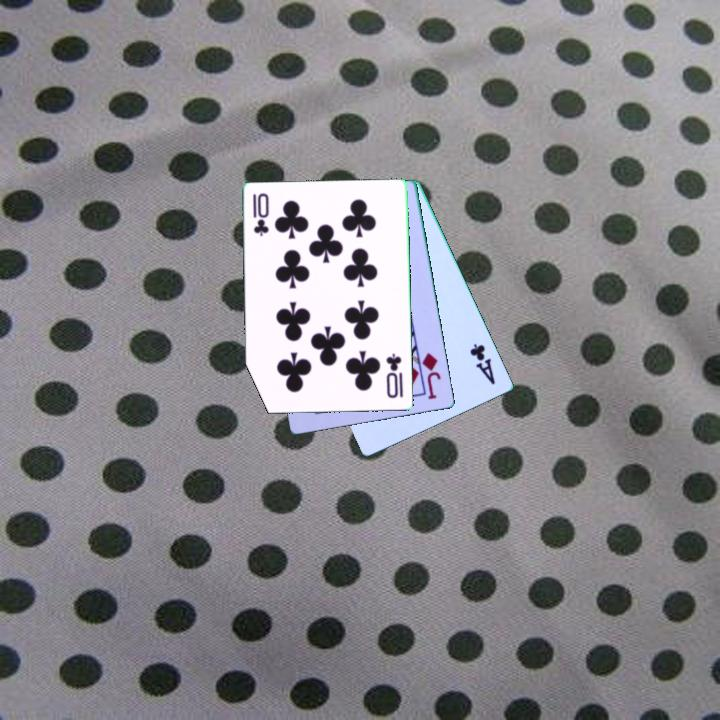10c: (383, 350, 406, 401), (250, 190, 272, 239)
Ac: (467, 340, 498, 388)
Jd: (415, 349, 444, 402)
